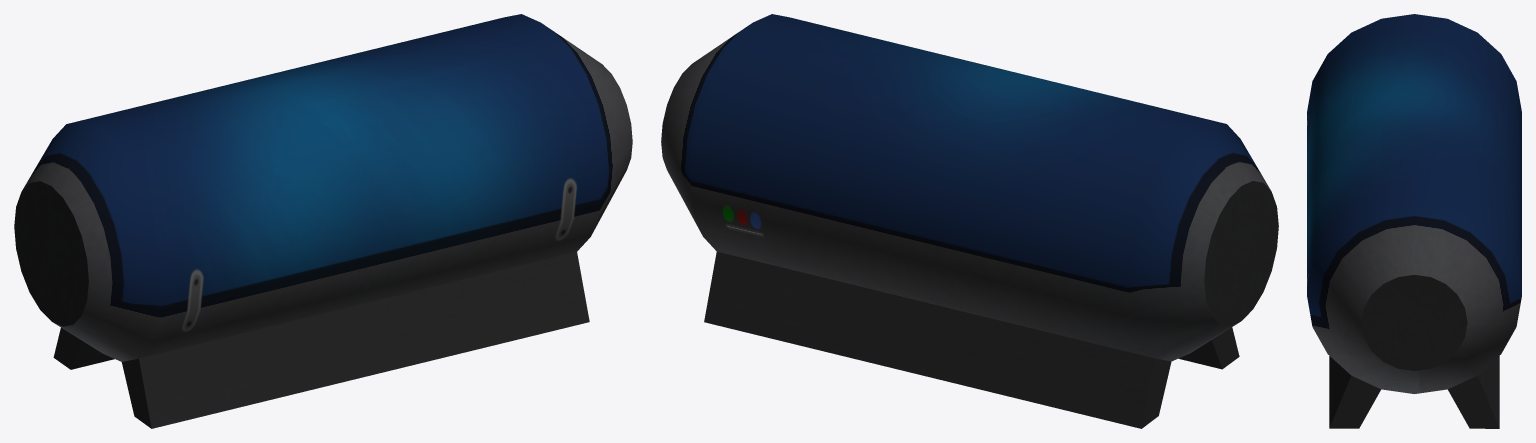
File: SleepingPod.fbx
The picture shows the model from 3 angles, left to right: view 1: azimuth 30°, elevation 25°; view 2: azimuth 150°, elevation 25°; view 3: azimuth 270°, elevation 25°; orthographic projection. The views are drawn at different scales.
Parts seen in each view (by area): view 1: pCylinder1; view 2: pCylinder1; view 3: pCylinder1.
Boxes of the visible parts, left/top/right/bottom form: pCylinder1: left=14, top=14, right=632, bottom=428; pCylinder1: left=661, top=14, right=1278, bottom=428; pCylinder1: left=1307, top=14, right=1521, bottom=428.
Size of the model in its own units: 16.99 by 7.79 by 6.61.
